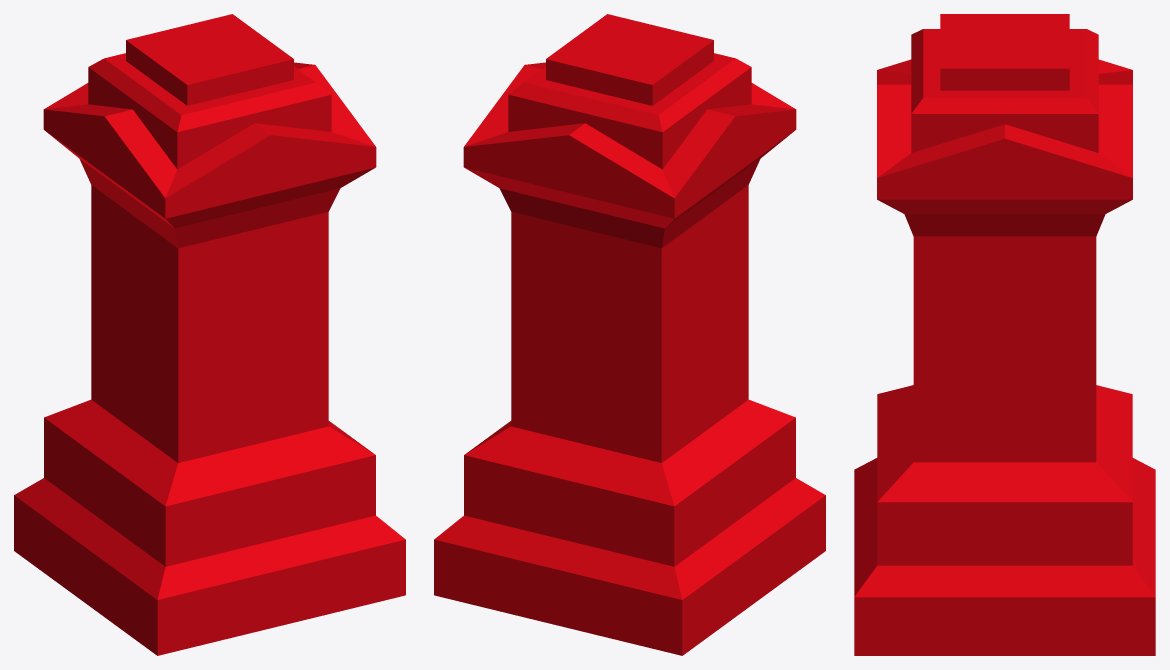
The model's file is red_pillar.glb.
The picture shows the model from 3 angles, left to right: view 1: azimuth 30°, elevation 25°; view 2: azimuth 150°, elevation 25°; view 3: azimuth 270°, elevation 25°; orthographic projection. The views are drawn at different scales.
Visible parts, largest first — view 1: Obelisk2; view 2: Obelisk2; view 3: Obelisk2.
Part boxes in pixels (x1,y1,x2,y2): Obelisk2: [14, 14, 405, 655]; Obelisk2: [434, 14, 825, 655]; Obelisk2: [854, 14, 1155, 655].
Size of what is drawn, in the model's own units: 2.02 by 4.08 by 2.02.
